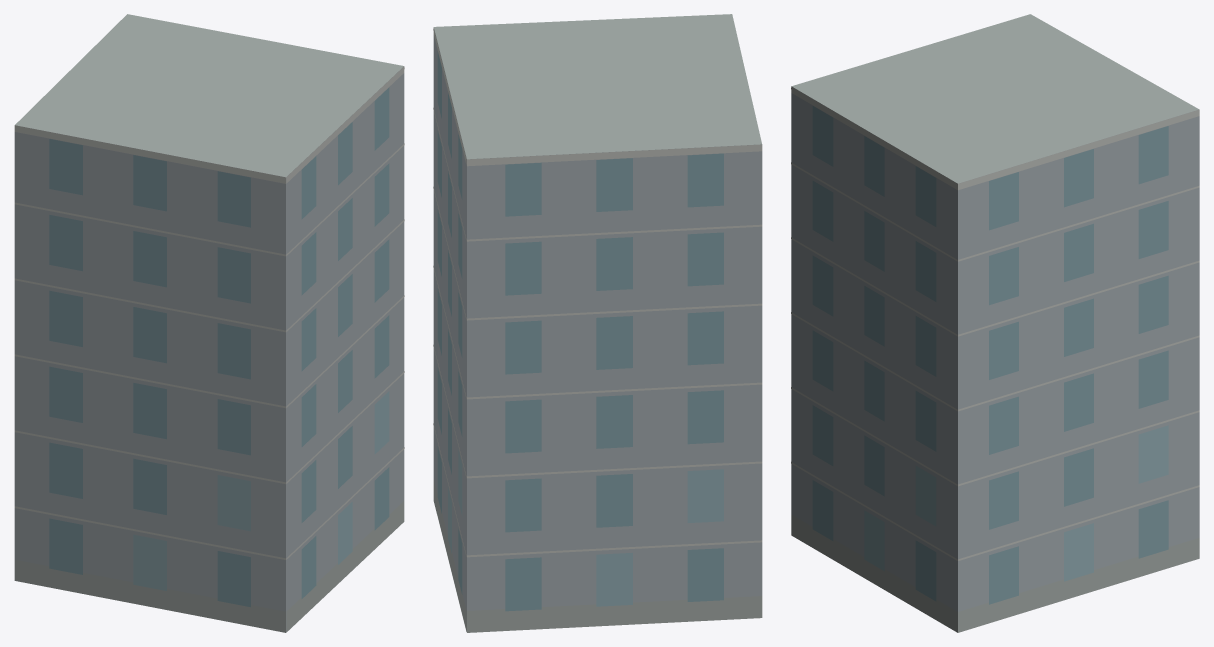
The model's file is survey-upis-33009792.glb.
The picture shows the model from 3 angles, left to right: view 1: azimuth 30°, elevation 25°; view 2: azimuth 150°, elevation 25°; view 3: azimuth 270°, elevation 25°; orthographic projection. The views are drawn at different scales.
Parts seen in each view (by area): view 1: survey-upis-33009792.tmp; view 2: survey-upis-33009792.tmp; view 3: survey-upis-33009792.tmp.
Boxes of the visible parts, x1,y1,x2,y2 form: survey-upis-33009792.tmp: (14,14,404,632); survey-upis-33009792.tmp: (433,14,762,632); survey-upis-33009792.tmp: (791,14,1199,632).
Bounding box in the file's own units: 13.47 × 16.6 × 13.69.
